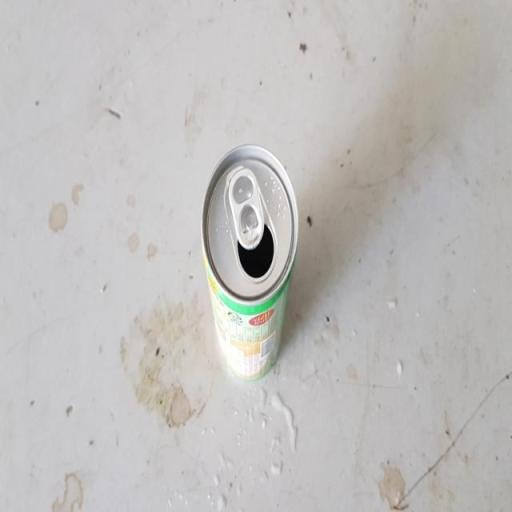metal: (195, 124, 303, 398)
